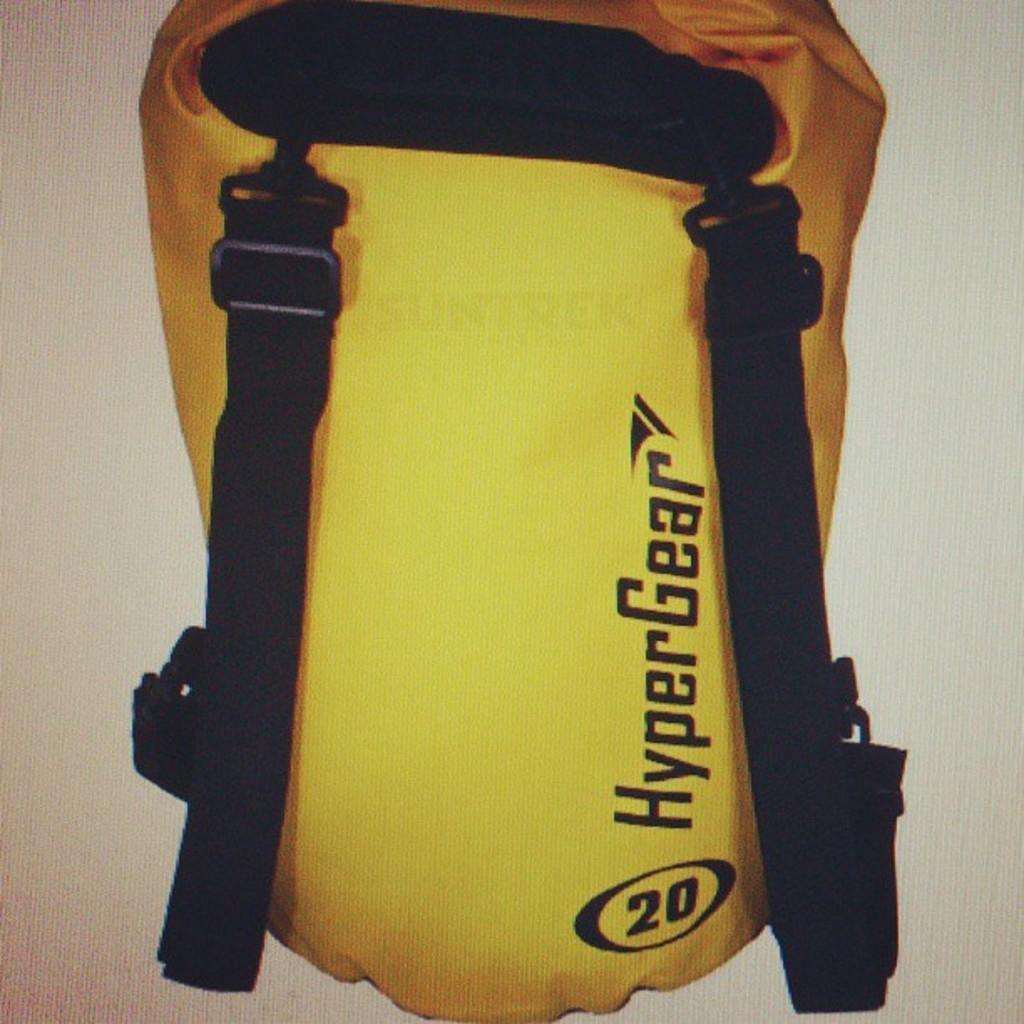Luggage-and-bags: (114, 3, 895, 1024)
